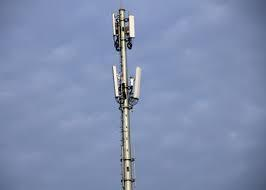antenna: (132, 66, 144, 99), (111, 63, 121, 102), (127, 12, 135, 39), (110, 10, 116, 39)
